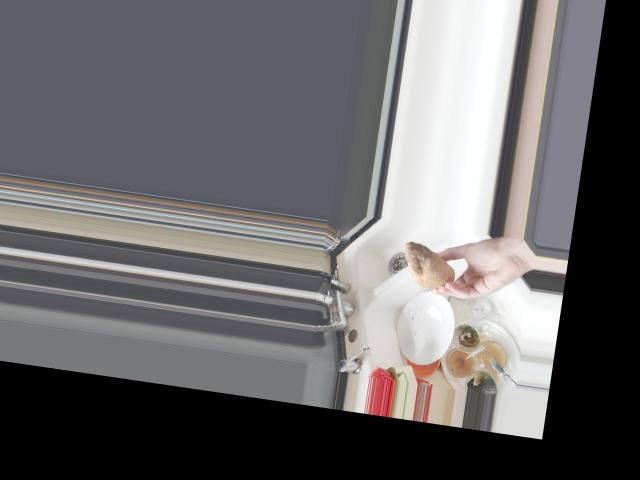sweet_potato: (398, 236, 458, 293)
